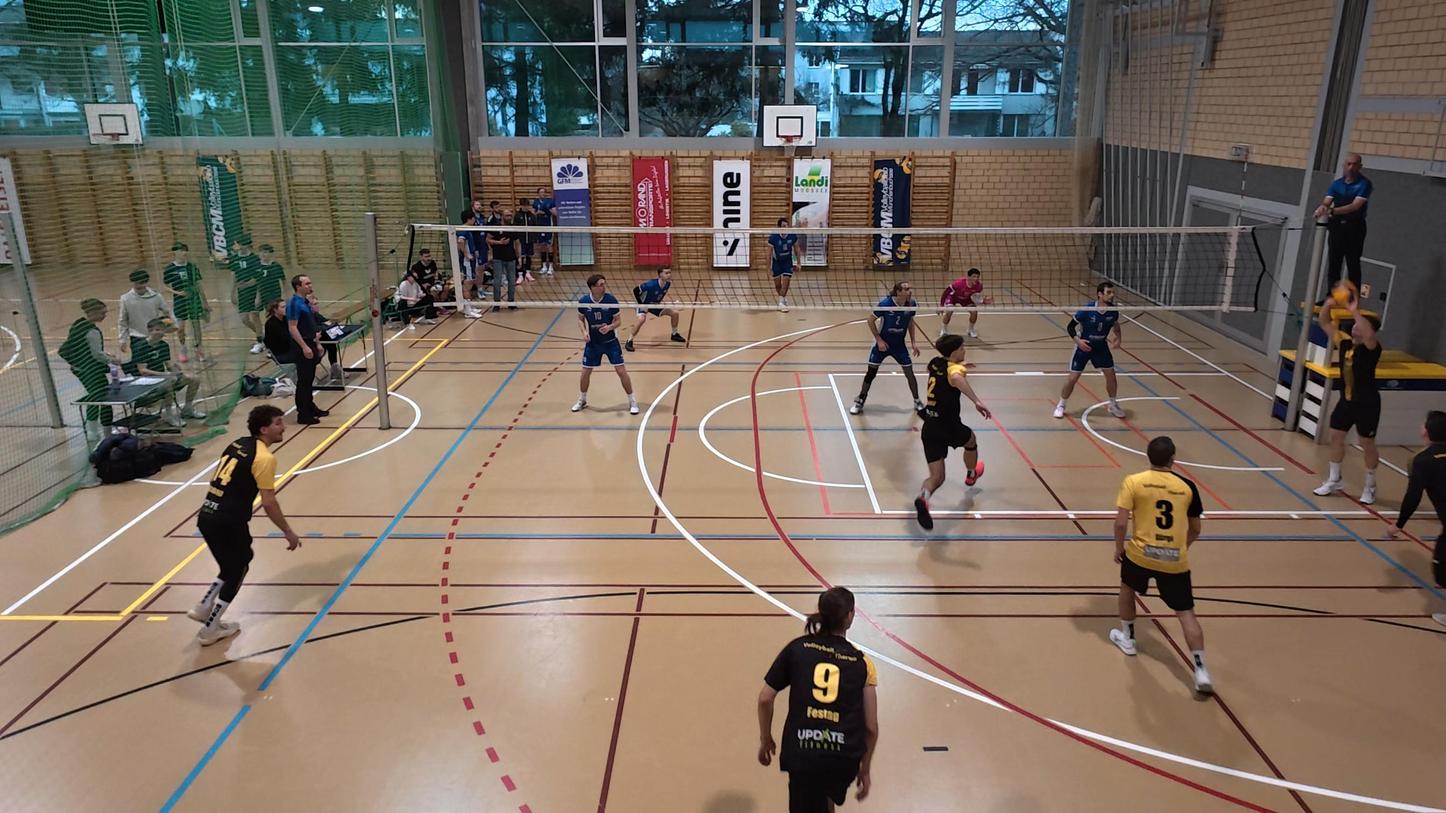alzata: (1308, 286, 1390, 505)
